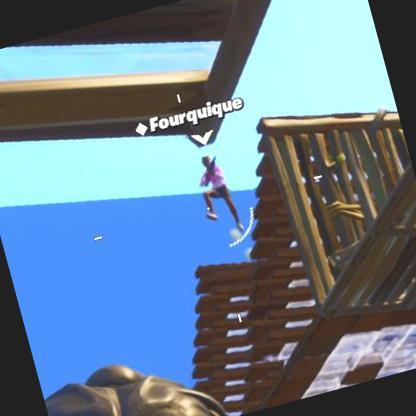person: (191, 150, 242, 234)
